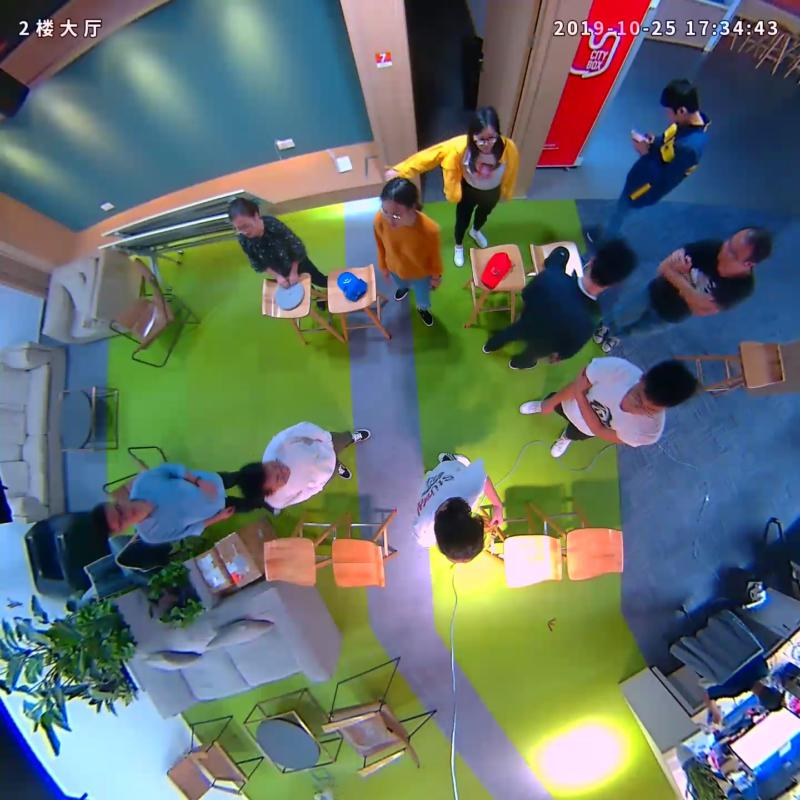head: (623, 360, 702, 420), (430, 501, 492, 569), (580, 235, 644, 294), (711, 220, 774, 274), (231, 457, 296, 506), (82, 497, 151, 539), (371, 173, 421, 229), (656, 74, 708, 126), (463, 106, 509, 156), (222, 194, 267, 245)
